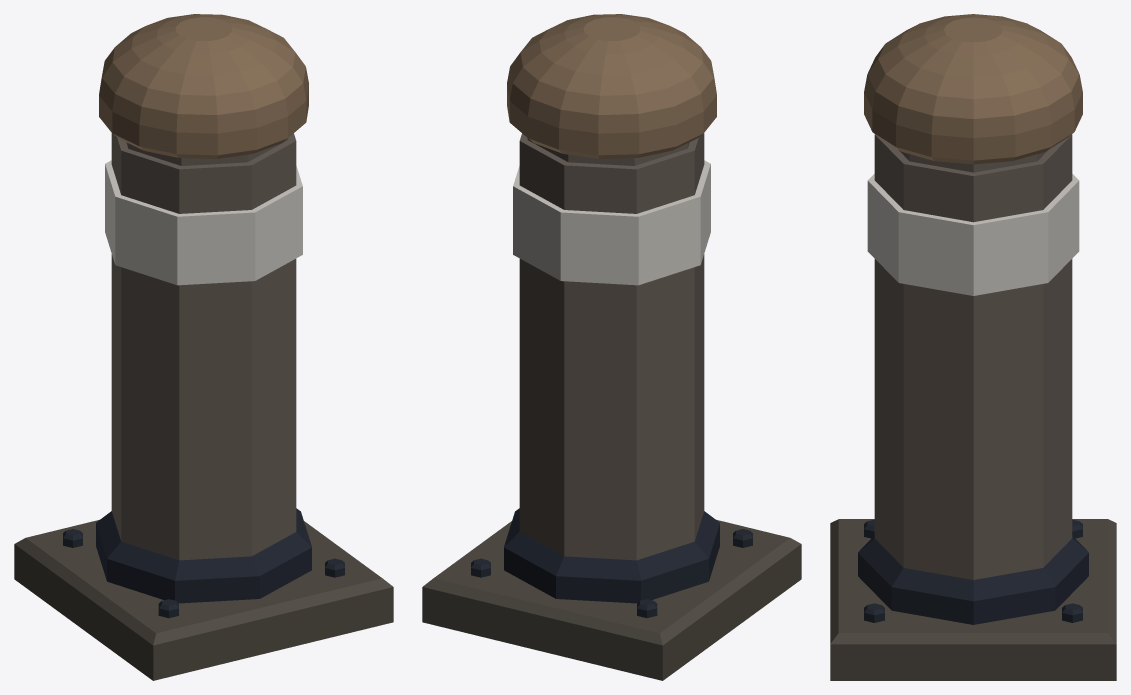
Rendered from sidewalk-bollard-c2567e.glb.
3 views of the same model, side by side, from view 1: azimuth 30°, elevation 25°; view 2: azimuth 150°, elevation 25°; view 3: azimuth 270°, elevation 25° (orthographic). The views are drawn at different scales.
Parts seen in each view (by area): view 1: bollard; view 2: bollard; view 3: bollard.
Boxes of the visible parts, x1,y1,x2,y2 form: bollard: (14, 14, 393, 680); bollard: (422, 14, 801, 680); bollard: (830, 14, 1116, 680).
Size of the model in its own units: 0.44 by 1 by 0.44.
